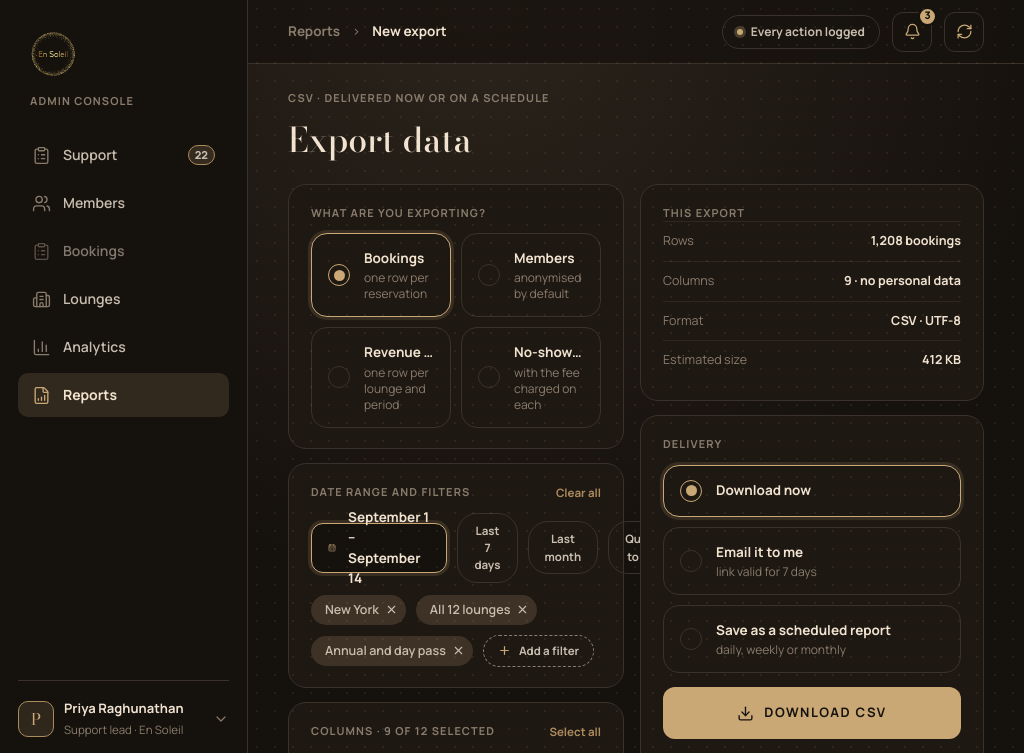
Export data (/admin/reports) › removes a filter chip when its close button is activated
Expected: the text "New York" is shown, [311,594,406,625]
Click the button named "Remove New York".
click(391, 610)  # box [385,603,398,616]
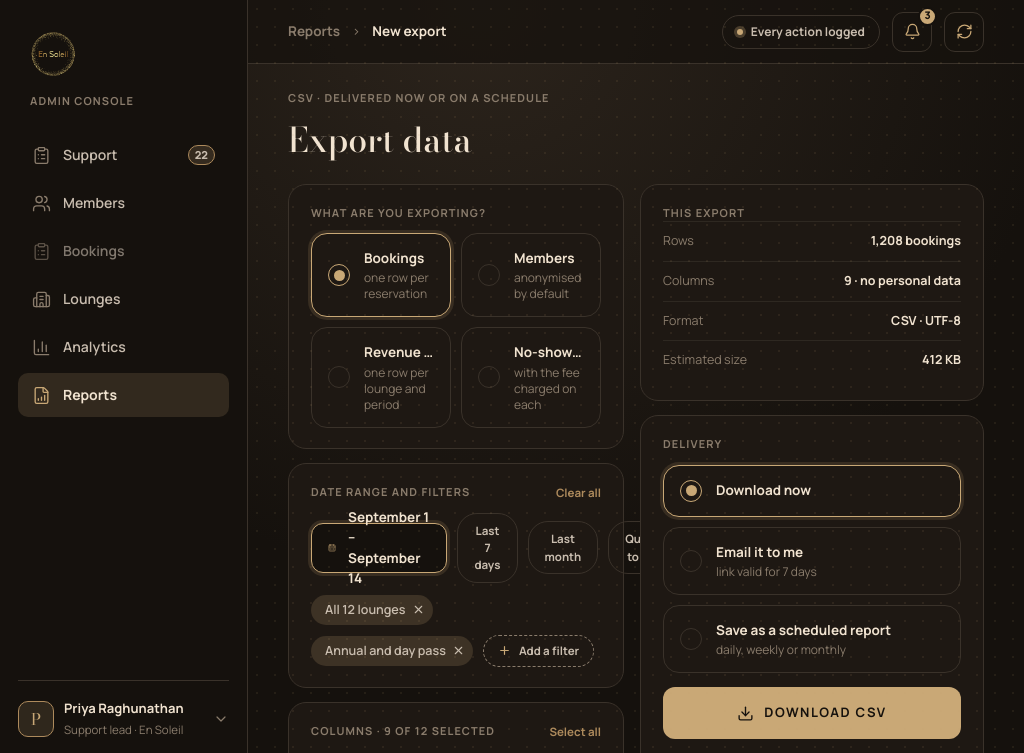
Result: the text "New York" is gone
